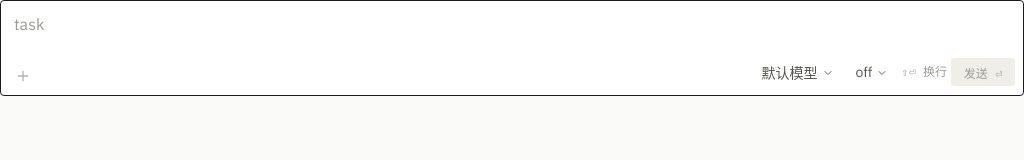
Scenario: composer completion menus › moves with the arrow keys and keeps a picked directory open for its children
Type "@" into the text box with test id "composer-input" at point(512, 28), box [9,8,1015,48]
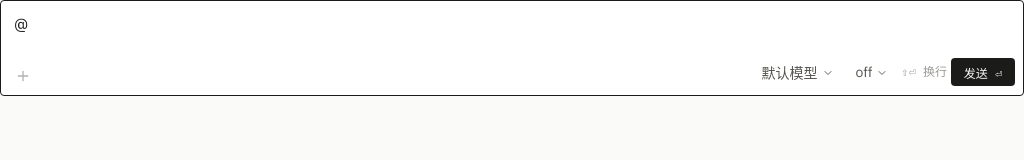
Press ArrowDown in the text box with test id "composer-input", box [9,8,1015,48]
Press ArrowUp in the text box with test id "composer-input", box [9,8,1015,48]
Press Tab in the text box with test id "composer-input", box [9,8,1015,48]
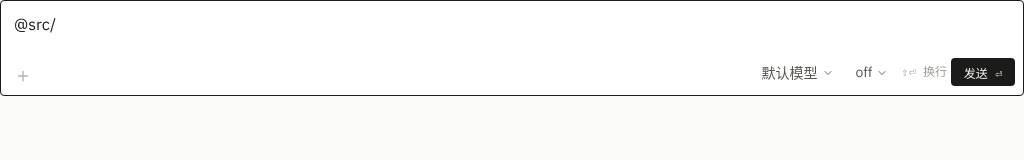
Result: the text box with test id "composer-input" holds "@src/" at [9,8,1015,48]
